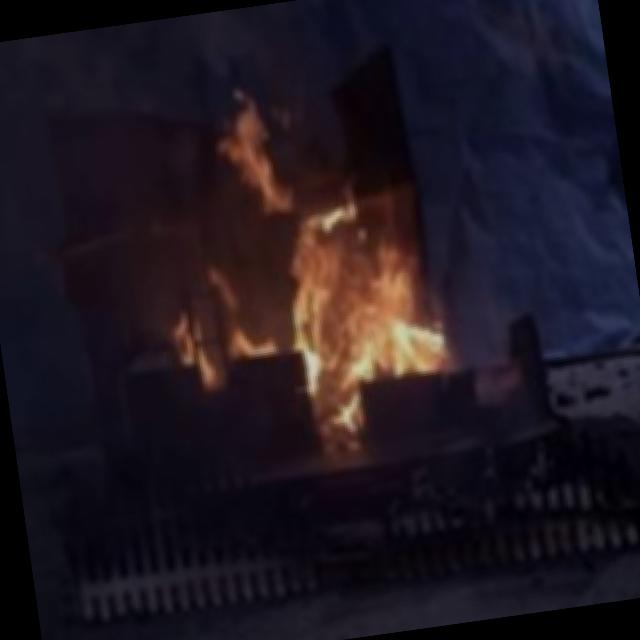fire: (197, 106, 447, 432)
